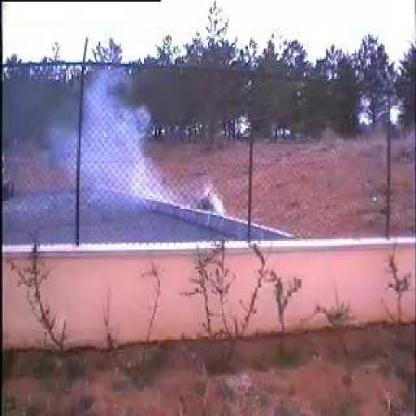-: (62, 64, 180, 206)
